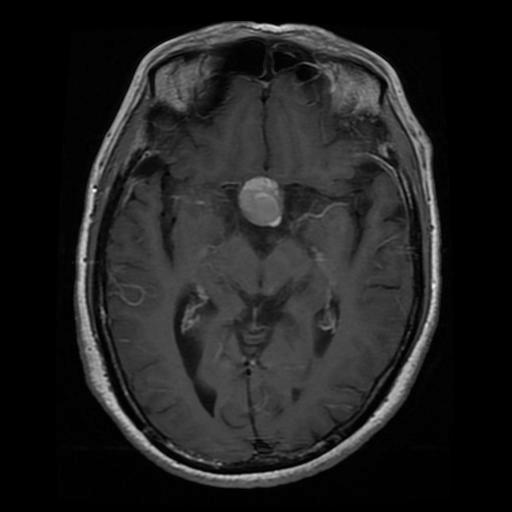Tumour-Pituitary: (237, 174, 287, 233)
